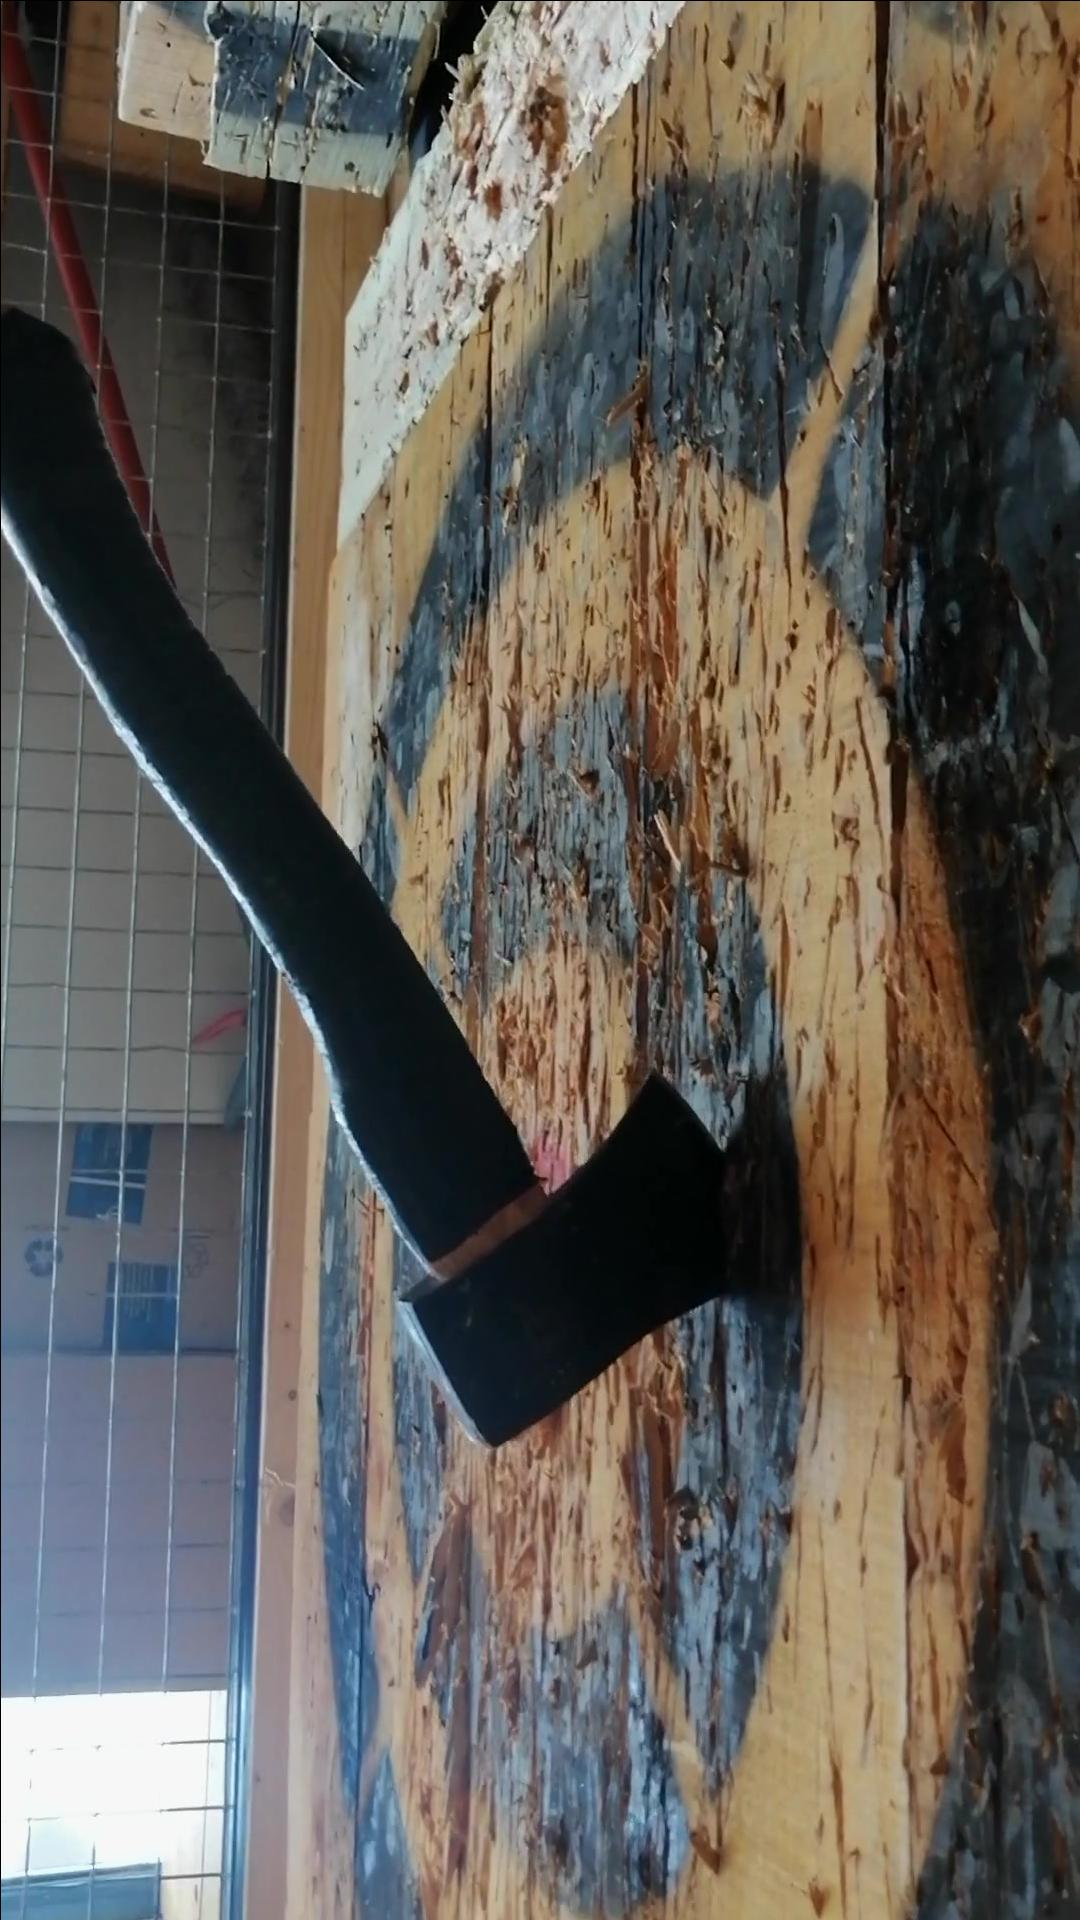Hand Axe: (400, 1077, 707, 1443)
